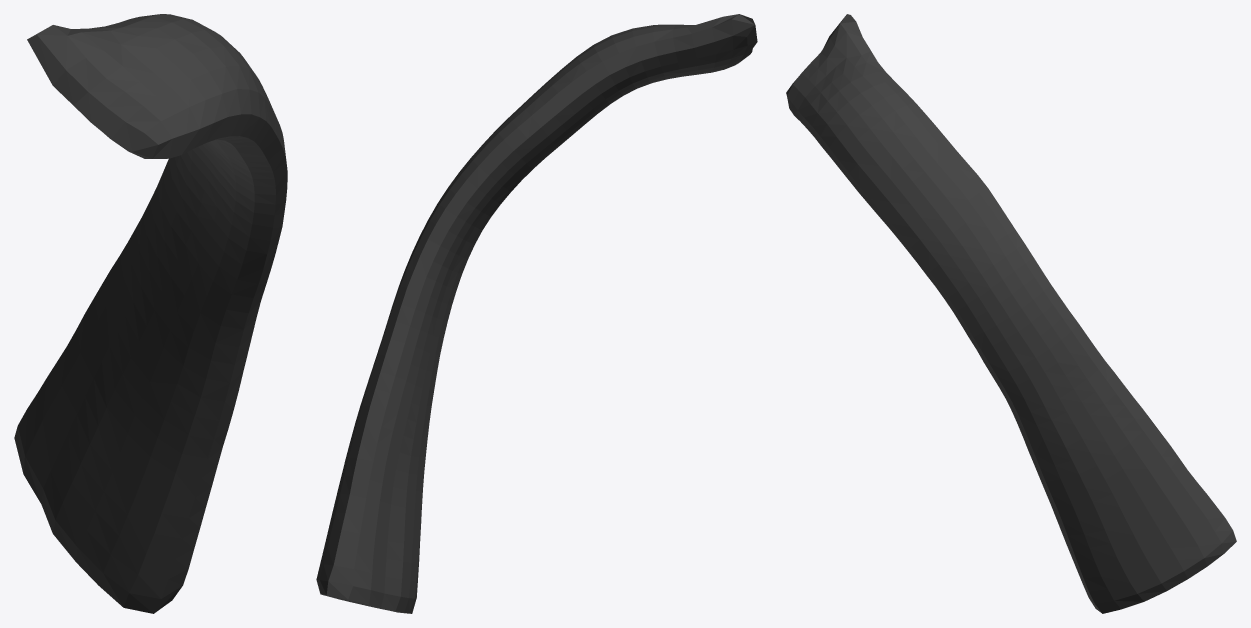
The model's file is Sternocephalic_cerv.glb.
3 views of the same model, side by side, from view 1: azimuth 30°, elevation 25°; view 2: azimuth 150°, elevation 25°; view 3: azimuth 270°, elevation 25° (orthographic). The views are drawn at different scales.
Visible parts, largest first — view 1: Sternocephalic_cerv; view 2: Sternocephalic_cerv; view 3: Sternocephalic_cerv.
Part boxes in pixels (x1=…): Sternocephalic_cerv: x1=14, y1=14, x2=287, y2=613; Sternocephalic_cerv: x1=316, y1=14, x2=757, y2=613; Sternocephalic_cerv: x1=786, y1=14, x2=1236, y2=613.
Bounding box in the file's own units: 0.5074 × 1.02 × 0.8381.
1 material, 1 textured.
